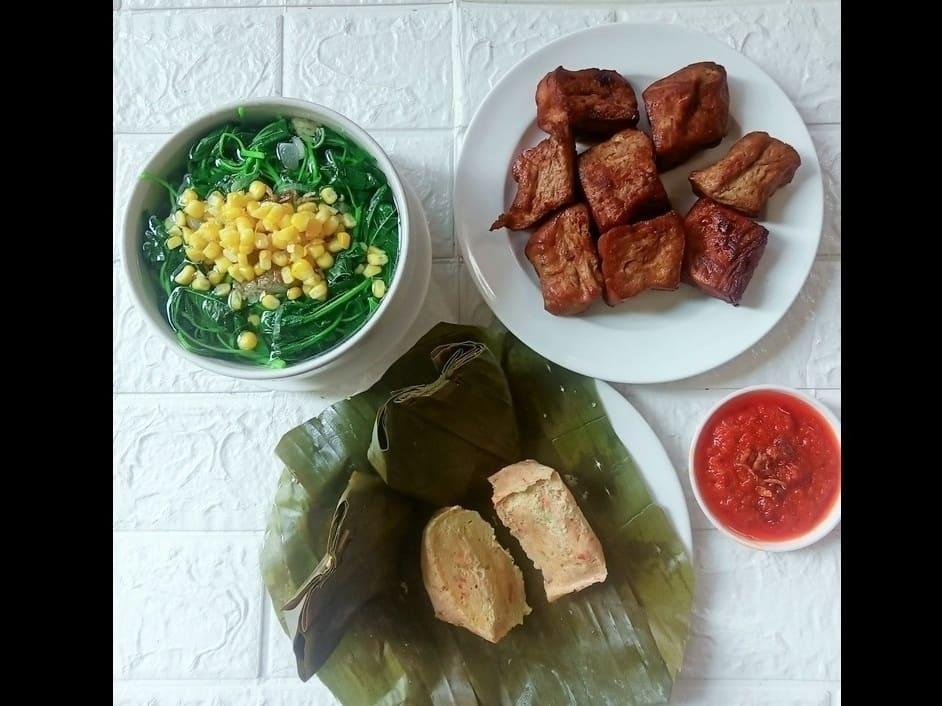buah_sayur_lainnya: (159, 172, 342, 335)
buah_sayur_vitA: (726, 414, 819, 526)
kacang_legume: (526, 174, 646, 286), (441, 526, 496, 610), (516, 484, 566, 551)
